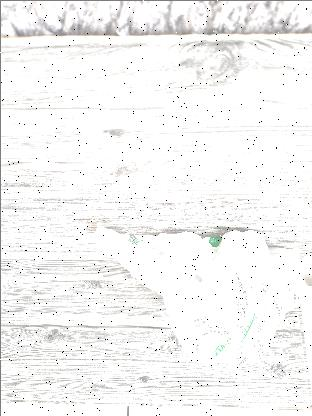Others: (92, 228, 304, 372)
